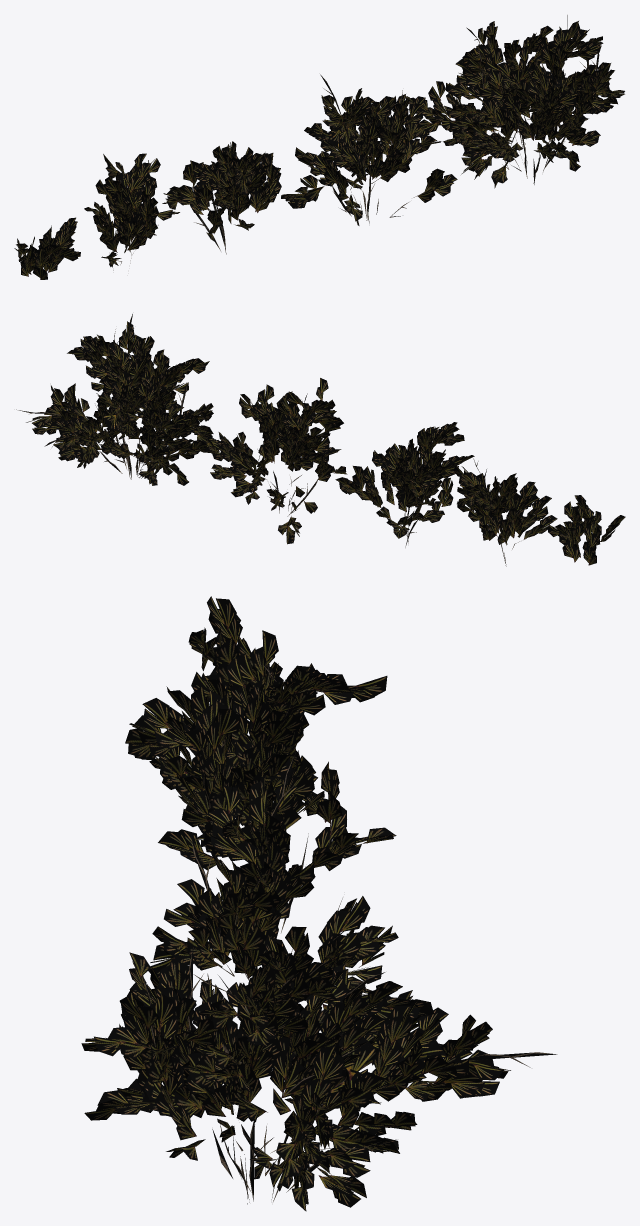
File: rooibos-bush.glb
3 views of the same model, one above another, from view 1: azimuth 30°, elevation 25°; view 2: azimuth 150°, elevation 25°; view 3: azimuth 270°, elevation 25° (orthographic). The views are drawn at different scales.
Visible parts, largest first — view 1: wild_rooibos_bush_a; view 2: wild_rooibos_bush_a; view 3: wild_rooibos_bush_a.
Boxes of the visible parts, x1,y1,x2,y2 form: wild_rooibos_bush_a: (14, 15, 624, 279); wild_rooibos_bush_a: (16, 314, 625, 566); wild_rooibos_bush_a: (81, 596, 557, 1211).
Bounding box in the file's own units: 2.27 × 0.5319 × 0.8285.
Materials: 2 (2 with a texture image).
